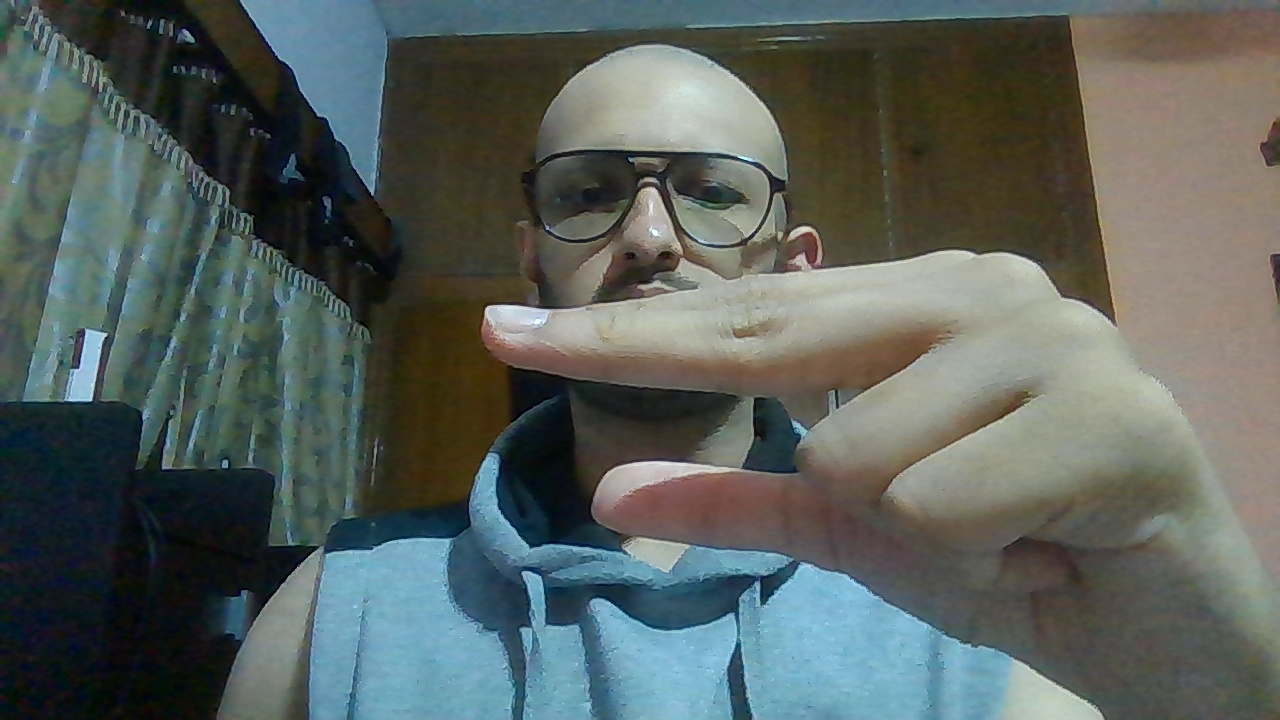No: (465, 242, 1267, 718)
